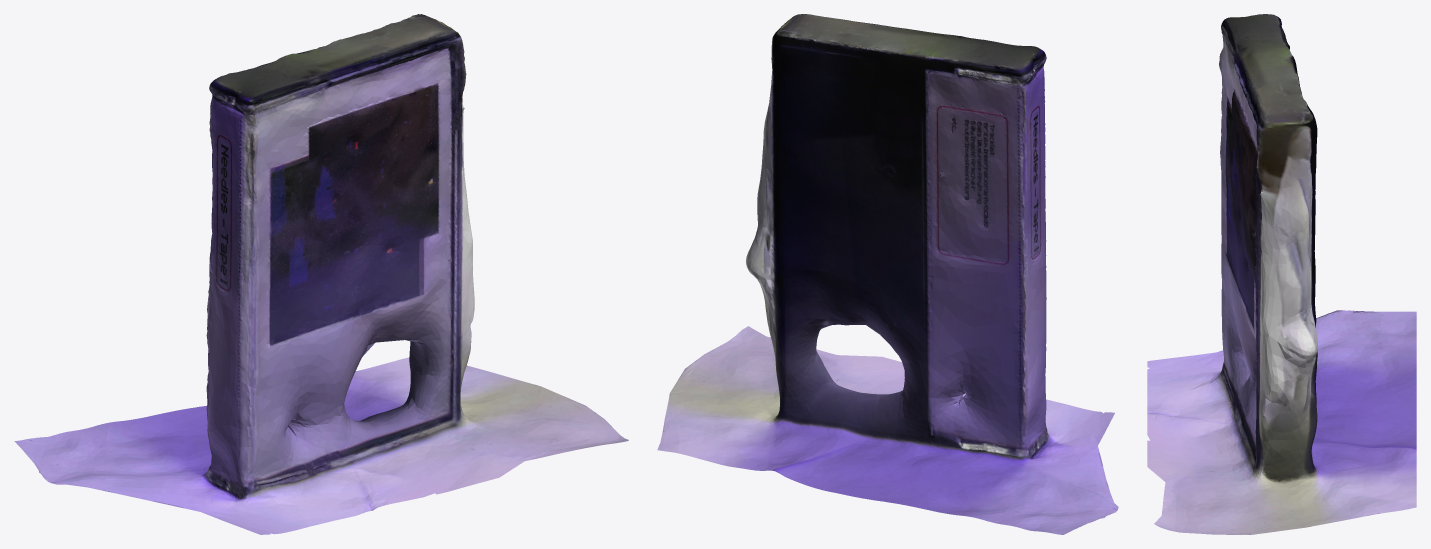
File: Tape1_tape.glb
3 views of the same model, side by side, from view 1: azimuth 30°, elevation 25°; view 2: azimuth 150°, elevation 25°; view 3: azimuth 270°, elevation 25° (orthographic). The views are drawn at different scales.
Parts seen in each view (by area): view 1: metascan_20230113_1626; view 2: metascan_20230113_1626; view 3: metascan_20230113_1626.
Part boxes in pixels (left/top/right/bottom): metascan_20230113_1626: left=14, top=14, right=628, bottom=534; metascan_20230113_1626: left=657, top=14, right=1118, bottom=534; metascan_20230113_1626: left=1147, top=14, right=1416, bottom=534.
Bounding box in the file's own units: 1.12 × 0.8862 × 0.5897.
1 material, 1 textured.
